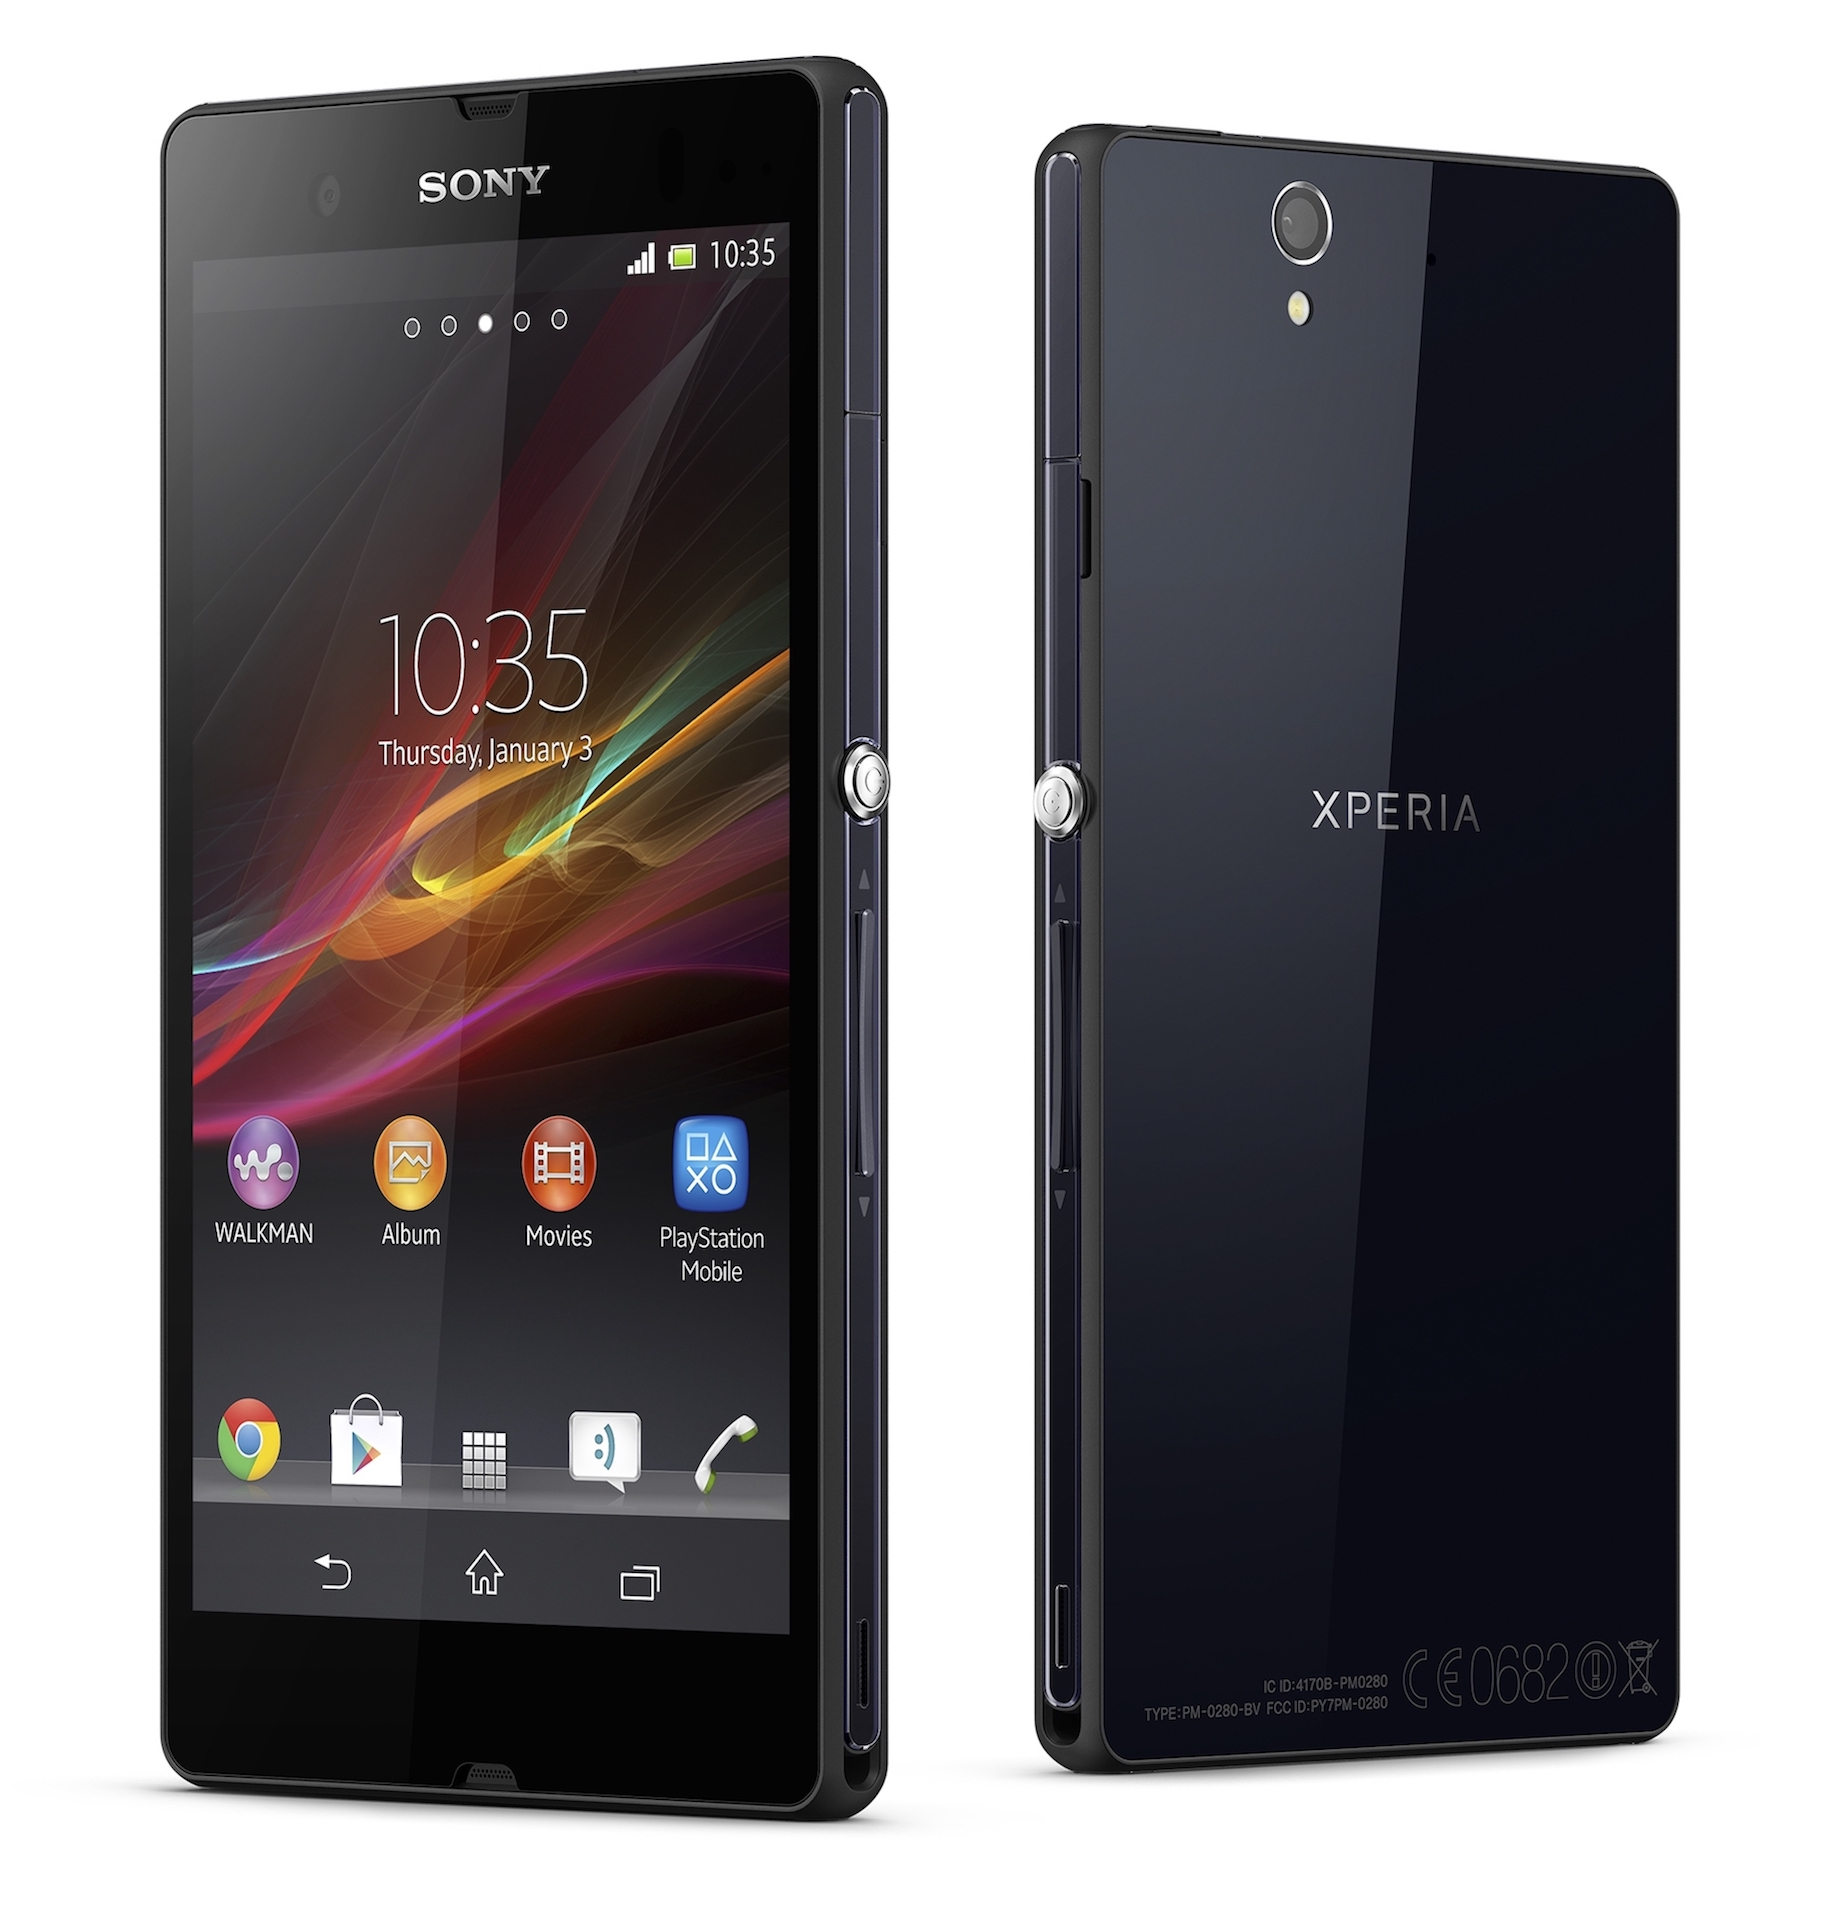smartphone: (153, 51, 897, 1831), (1027, 120, 1687, 1778)
